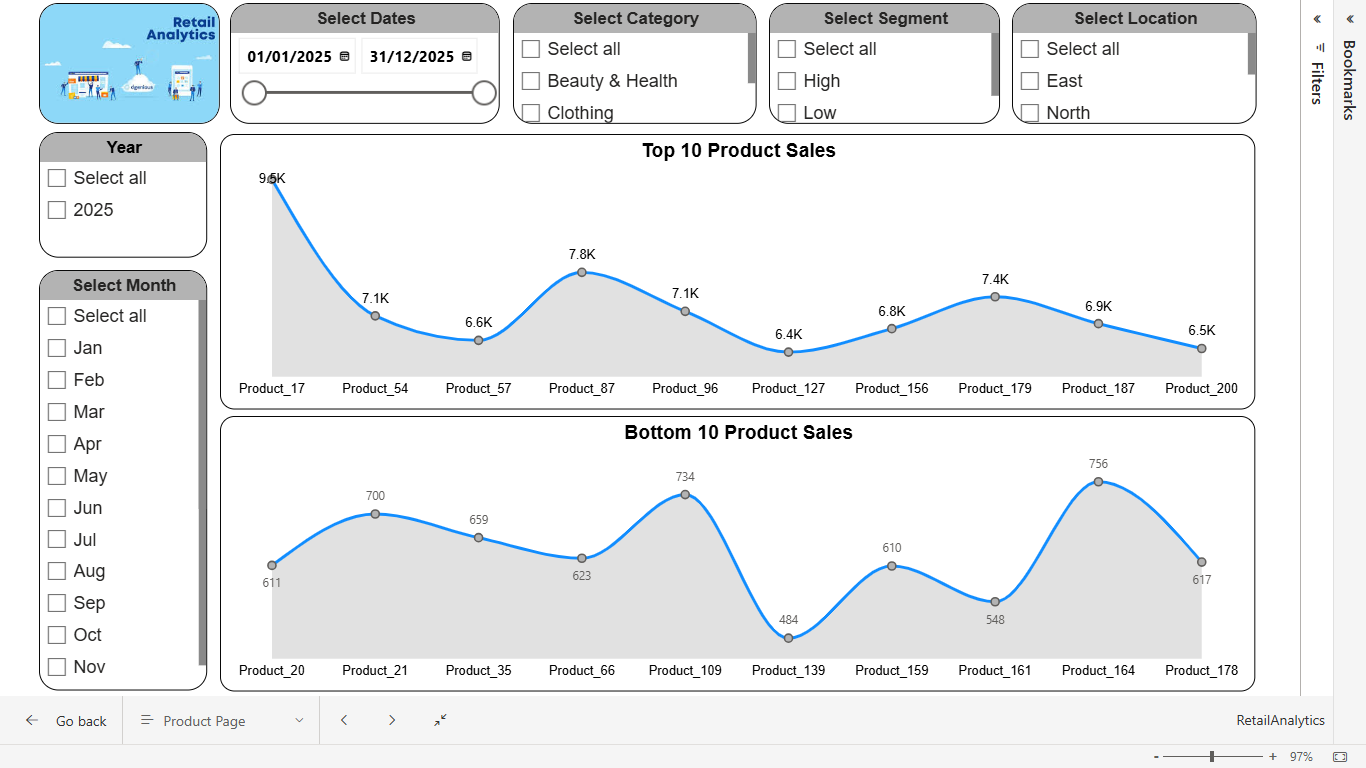

The dashboard page shown, as its layout file describes it:
{"tool":"powerbi","page":{"name":"Product Page","canvas":[1280,720],"ordinal":1},"visuals":[{"type":"lineChart","title":"Bottom 10 Product Sales","fields":{"Category":["Products.ProductName"],"Y":["All Measures.Total Sales"]},"box":[195.8,430.6,1071.4,285.1],"z":0},{"type":"lineClusteredColumnComboChart","title":"Top 10 Product Sales","fields":{"Category":["Products.ProductName"],"Y2":["All Measures.Total Sales"]},"box":[195.8,138.2,1071.4,285.1],"z":1000},{"type":"image","box":[8.6,2.9,187.2,125.3],"z":1001},{"type":"slicer","title":"Select Dates","fields":{"Values":["Calendar.Date"]},"box":[205.9,2.9,279.4,125.3],"z":1002},{"type":"slicer","title":"Year","fields":{"Values":["Calendar.Year"]},"box":[8.6,136.8,174.2,129.6],"z":1003},{"type":"slicer","title":"Select Month","fields":{"Values":["Calendar.Month Name"]},"box":[8.6,279.4,174.2,434.9],"z":1004},{"type":"slicer","title":"Select Category","fields":{"Values":["Products.Category"]},"box":[498.2,2.9,252,125.3],"z":1005},{"type":"slicer","title":"Select Segment","fields":{"Values":["Customer_Segment.Customer_Segment"]},"box":[763.2,2.9,239,125.3],"z":1006},{"type":"slicer","title":"Select Location","fields":{"Values":["Customers.Location"]},"box":[1015.2,2.9,253.4,125.3],"z":1007}]}

Visuals, with their boxes on the page's 1280x720 design canvas (x1, y1, x2, y2). These are canvas units, not pixel positions in the 1366x768 screenshot, which may show the page scaled, cropped or inside an application window:
"Bottom 10 Product Sales" lineChart: bbox(196, 431, 1267, 716)
"Top 10 Product Sales" lineClusteredColumnComboChart: bbox(196, 138, 1267, 423)
image: bbox(9, 3, 196, 128)
"Select Dates" slicer: bbox(206, 3, 485, 128)
"Year" slicer: bbox(9, 137, 183, 266)
"Select Month" slicer: bbox(9, 279, 183, 714)
"Select Category" slicer: bbox(498, 3, 750, 128)
"Select Segment" slicer: bbox(763, 3, 1002, 128)
"Select Location" slicer: bbox(1015, 3, 1269, 128)
